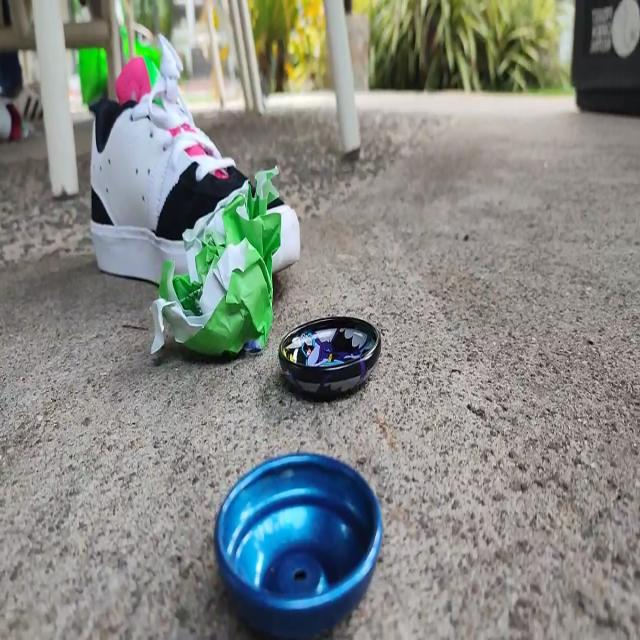paper: (146, 165, 292, 362)
